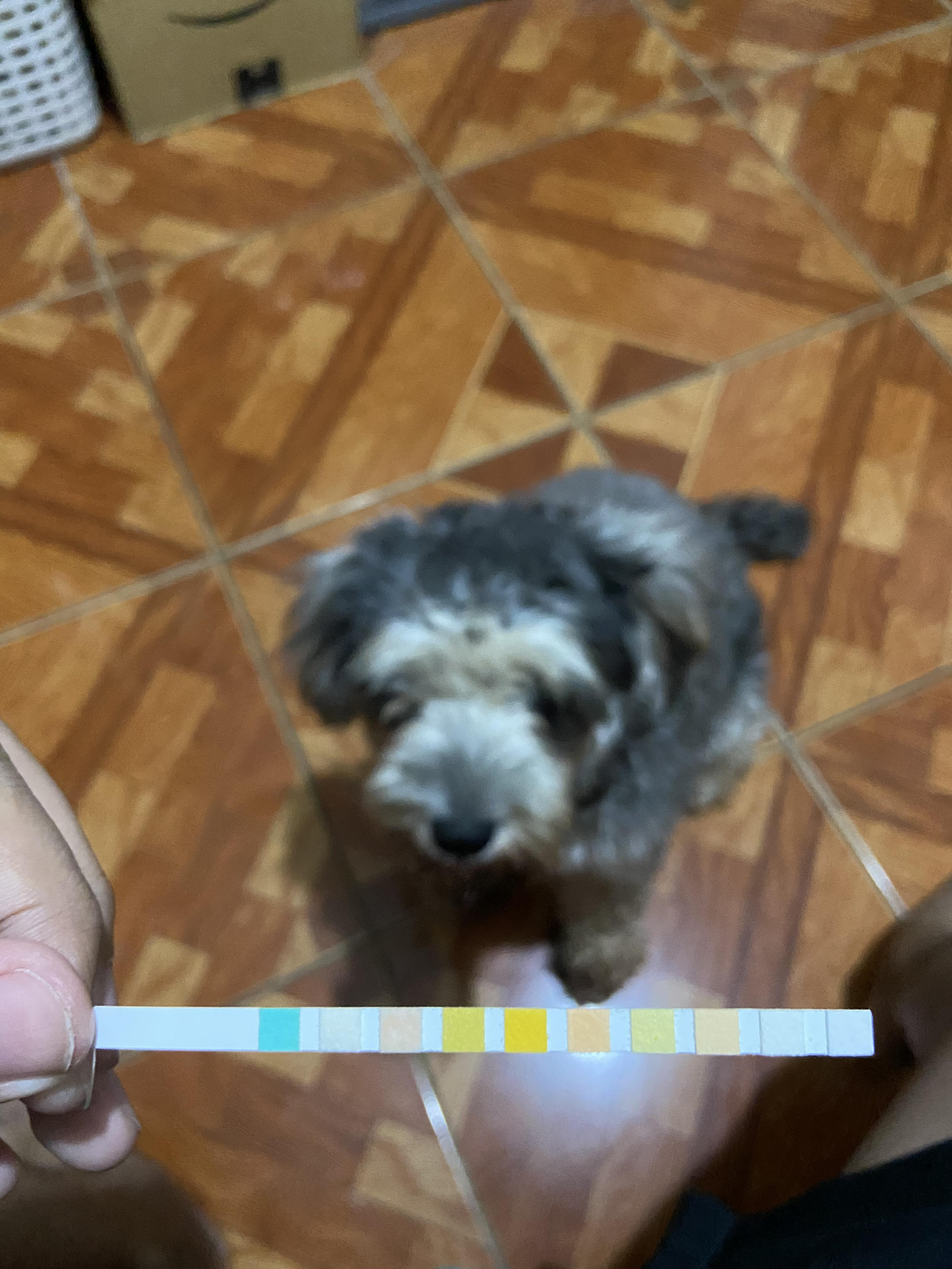Bilirubin: (323, 1011, 358, 1050)
Blood: (508, 1011, 545, 1050)
Glucose: (261, 1011, 296, 1048)
Ketone: (383, 1011, 420, 1050)
Leukocytes: (832, 1014, 869, 1053)
Nitrite: (766, 1013, 801, 1052)
Protein: (635, 1012, 671, 1050)
SpGravity: (445, 1011, 482, 1050)
Urobilinogen: (699, 1012, 739, 1052)
pH: (570, 1012, 608, 1048)
strip: (102, 1007, 873, 1055)
